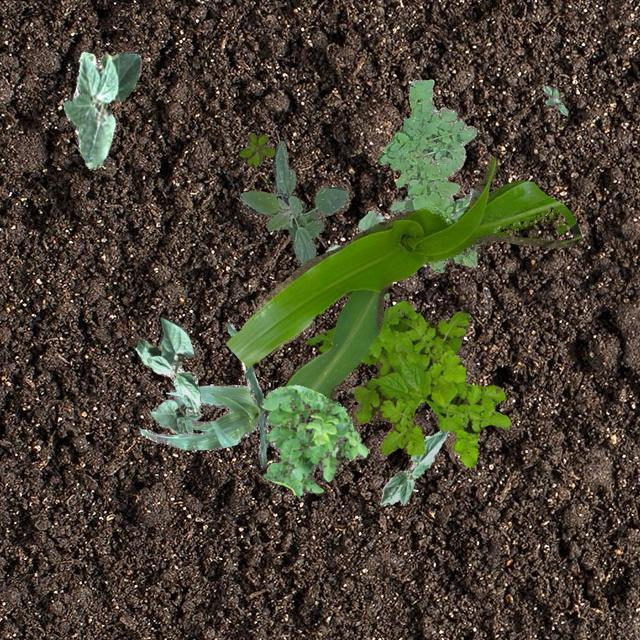crop: (224, 156, 580, 398), (138, 322, 268, 466), (62, 50, 140, 168), (134, 316, 200, 414), (379, 428, 447, 504), (326, 210, 384, 250), (150, 397, 202, 432), (444, 188, 476, 224)
weed: (306, 299, 510, 466), (378, 78, 498, 272), (238, 140, 346, 266), (260, 384, 366, 496), (238, 132, 274, 166), (542, 84, 568, 114), (382, 292, 388, 300)
